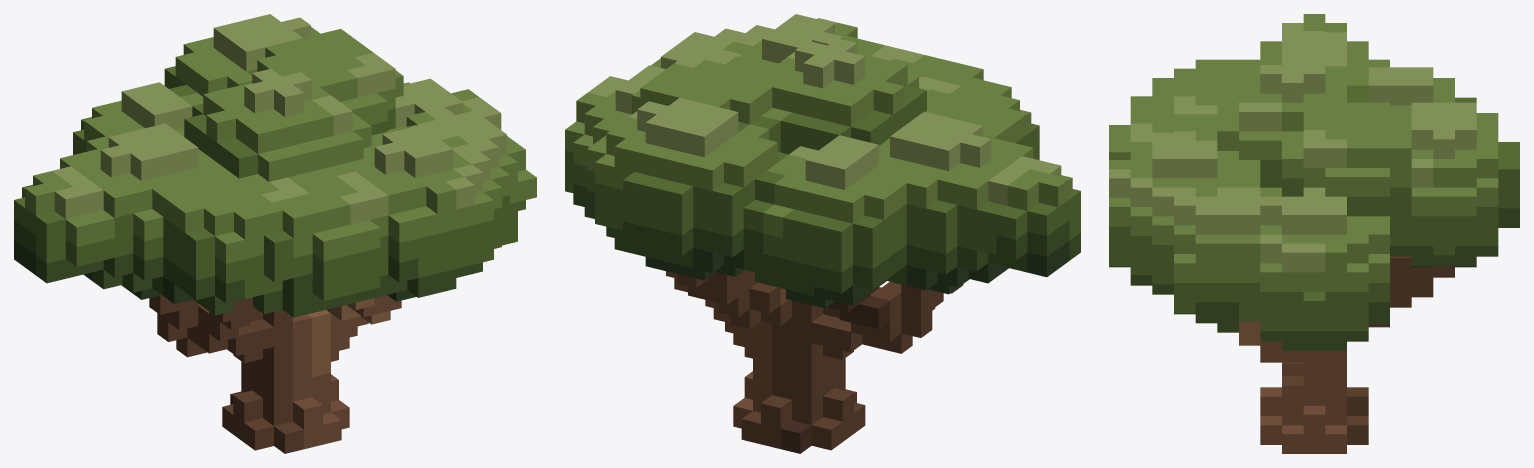
Rendered from apple_ancient_3.glb.
The picture shows the model from 3 angles, left to right: view 1: azimuth 30°, elevation 25°; view 2: azimuth 150°, elevation 25°; view 3: azimuth 270°, elevation 25°; orthographic projection. The views are drawn at different scales.
Parts seen in each view (by area): view 1: apple_ancient_3; view 2: apple_ancient_3; view 3: apple_ancient_3.
Part boxes in pixels (box(x1,y1,x2,y2)): apple_ancient_3: box(14, 14, 536, 453); apple_ancient_3: box(565, 14, 1080, 453); apple_ancient_3: box(1109, 14, 1519, 453).
Bounding box in the file's own units: 25 × 18 × 19.
